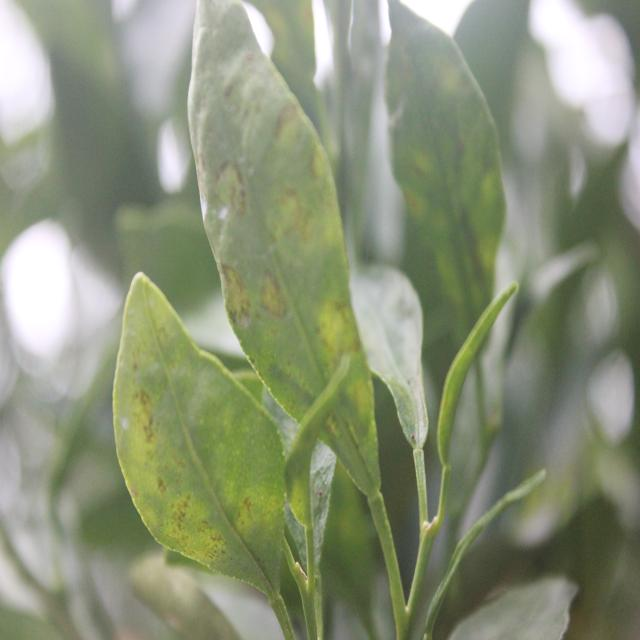canker: (192, 49, 367, 405), (123, 315, 276, 558)
